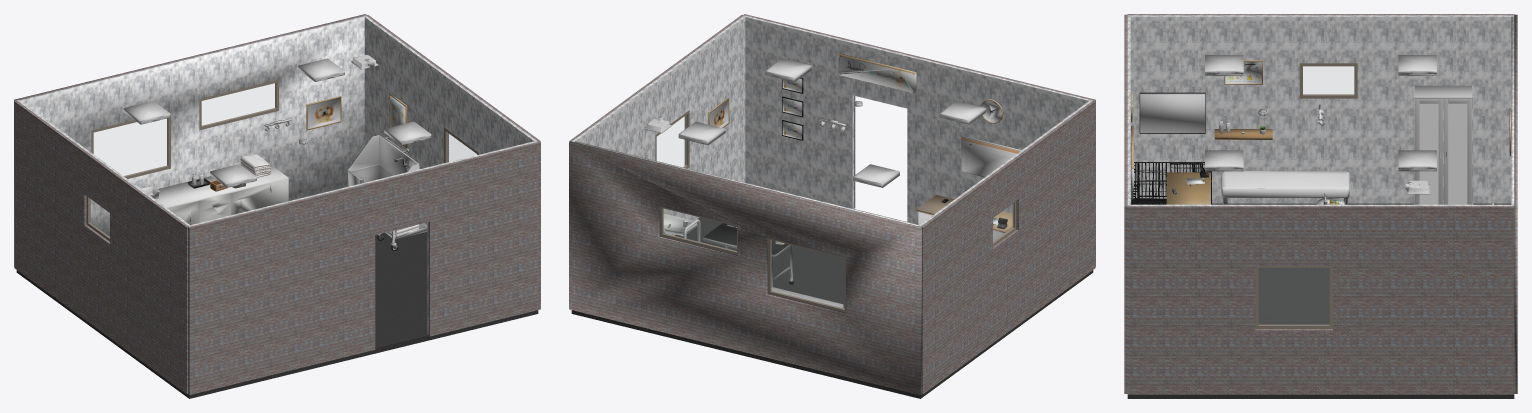
File: scene_named.glb
3 views of the same model, side by side, from view 1: azimuth 30°, elevation 25°; view 2: azimuth 150°, elevation 25°; view 3: azimuth 270°, elevation 25° (orthographic). The views are drawn at different scales.
Visible parts, largest first — view 1: south_wall_exterior_grooming_salon/south_wall_exterior_groom, north_wall_grooming_salon/north_wall_grooming_salon/geometry, west_wall_exterior_grooming_salon/west_wall_exterior_groomin, east_wall_grooming_salon/east_wall_grooming_salon/geometry_0, floor_grooming_salon, credenza_0, window_5_grooming_salon/window_5_grooming_salon/glass, dog_wash_tub_0, window_6_grooming_salon/window_6_grooming_salon/glass, photo_print_0, south_wall_grooming_salon/south_wall_grooming_salon/geometry, north_wall_exterior_grooming_salon/north_wall_exterior_groom (+11 smaller); view 2: north_wall_exterior_grooming_salon/north_wall_exterior_groom, south_wall_grooming_salon/south_wall_grooming_salon/geometry, west_wall_exterior_grooming_salon/west_wall_exterior_groomin, east_wall_grooming_salon/east_wall_grooming_salon/geometry_0, floor_grooming_salon, window_5_grooming_salon/window_5_grooming_salon/glass, window_6_grooming_salon/window_6_grooming_salon/glass, acrylic_sign_0, whiteboard_0, grooming_table_0, south_wall_exterior_grooming_salon/south_wall_exterior_groom, window_3_grooming_salon/window_3_grooming_salon/glass (+13 smaller); view 3: east_wall_exterior_grooming_salon/east_wall_exterior_groomin, west_wall_grooming_salon/west_wall_grooming_salon/geometry_0, floor_grooming_salon, window_3_grooming_salon/window_3_grooming_salon/glass, waiting_room_bench_0, mirror_1, cabinet_0/E_door_1_16, cabinet_0/E_door_2_36.006, north_wall_exterior_grooming_salon/north_wall_exterior_groom, south_wall_exterior_grooming_salon/south_wall_exterior_groom, window_4_grooming_salon/window_4_grooming_salon/glass, dog_crate_0 (+19 smaller).
Boxes of the visible parts, left/top/right/bottom form: south_wall_exterior_grooming_salon/south_wall_exterior_groom: left=188, top=141, right=540, bottom=394; north_wall_grooming_salon/north_wall_grooming_salon/geometry: left=19, top=16, right=364, bottom=236; west_wall_exterior_grooming_salon/west_wall_exterior_groomin: left=14, top=100, right=188, bottom=394; east_wall_grooming_salon/east_wall_grooming_salon/geometry_0: left=363, top=15, right=537, bottom=224; floor_grooming_salon: left=16, top=232, right=538, bottom=398; credenza_0: left=155, top=164, right=288, bottom=224; window_5_grooming_salon/window_5_grooming_salon/glass: left=94, top=119, right=167, bottom=175; dog_wash_tub_0: left=347, top=135, right=419, bottom=234; window_6_grooming_salon/window_6_grooming_salon/glass: left=202, top=83, right=275, bottom=125; photo_print_0: left=306, top=96, right=341, bottom=130; south_wall_grooming_salon/south_wall_grooming_salon/geometry: left=191, top=141, right=535, bottom=334; north_wall_exterior_grooming_salon/north_wall_exterior_groom: left=14, top=14, right=366, bottom=266; north_wall_exterior_grooming_salon/north_wall_exterior_groom: left=569, top=141, right=921, bottom=394; south_wall_grooming_salon/south_wall_grooming_salon/geometry: left=745, top=16, right=1090, bottom=224; west_wall_exterior_grooming_salon/west_wall_exterior_groomin: left=921, top=100, right=1095, bottom=394; east_wall_grooming_salon/east_wall_grooming_salon/geometry_0: left=572, top=15, right=746, bottom=235; floor_grooming_salon: left=571, top=209, right=1093, bottom=398; window_5_grooming_salon/window_5_grooming_salon/glass: left=771, top=240, right=844, bottom=308; window_6_grooming_salon/window_6_grooming_salon/glass: left=663, top=209, right=736, bottom=251; acrylic_sign_0: left=838, top=53, right=916, bottom=93; whiteboard_0: left=961, top=135, right=1021, bottom=177; grooming_table_0: left=703, top=223, right=793, bottom=286; south_wall_exterior_grooming_salon/south_wall_exterior_groom: left=743, top=14, right=1095, bottom=266; window_3_grooming_salon/window_3_grooming_salon/glass: left=657, top=115, right=686, bottom=167; east_wall_exterior_grooming_salon/east_wall_exterior_groomin: left=1127, top=206, right=1514, bottom=394; west_wall_grooming_salon/west_wall_grooming_salon/geometry_0: left=1127, top=15, right=1514, bottom=203; floor_grooming_salon: left=1127, top=203, right=1514, bottom=398; window_3_grooming_salon/window_3_grooming_salon/glass: left=1259, top=268, right=1329, bottom=324; waiting_room_bench_0: left=1221, top=171, right=1349, bottom=204; mirror_1: left=1139, top=92, right=1205, bottom=133; cabinet_0/E_door_1_16: left=1448, top=103, right=1467, bottom=204; cabinet_0/E_door_2_36.006: left=1419, top=103, right=1438, bottom=204; north_wall_exterior_grooming_salon/north_wall_exterior_groom: left=1514, top=14, right=1517, bottom=393; south_wall_exterior_grooming_salon/south_wall_exterior_groom: left=1124, top=14, right=1127, bottom=393; window_4_grooming_salon/window_4_grooming_salon/glass: left=1303, top=66, right=1353, bottom=94; dog_crate_0: left=1131, top=162, right=1211, bottom=204.
Bounding box in the file's own units: 7.1 × 3.3 × 6.1.
Materials: 59 (51 with a texture image).
